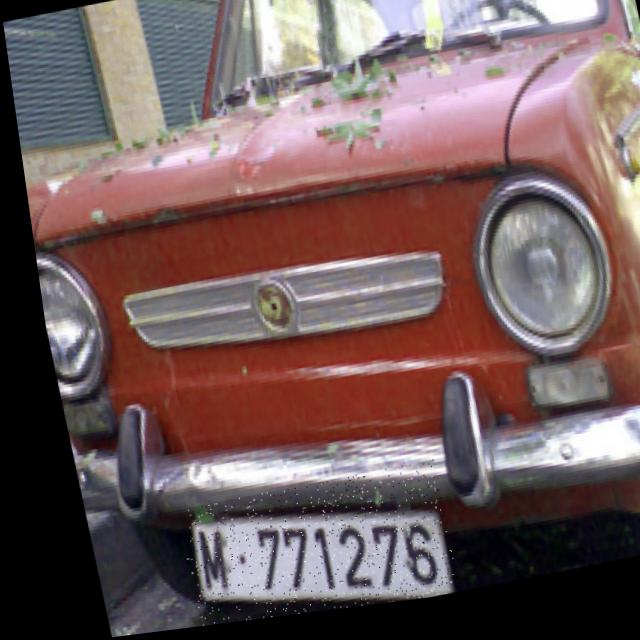license_plate: (158, 467, 442, 630)
